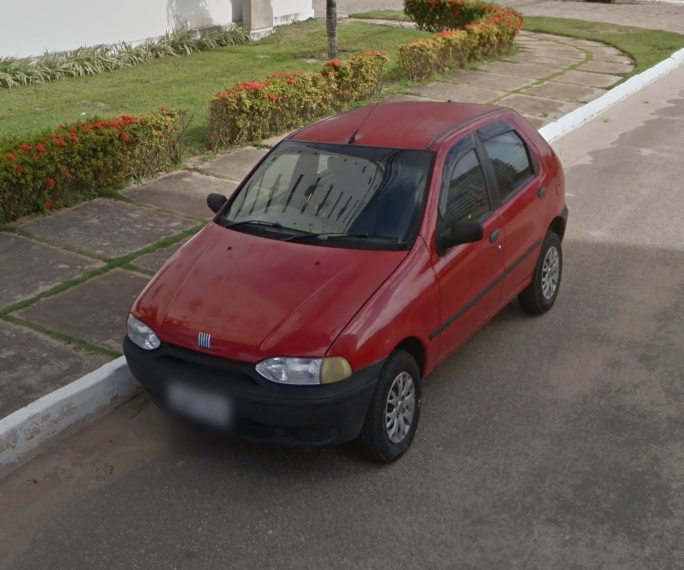car: (120, 92, 570, 465)
